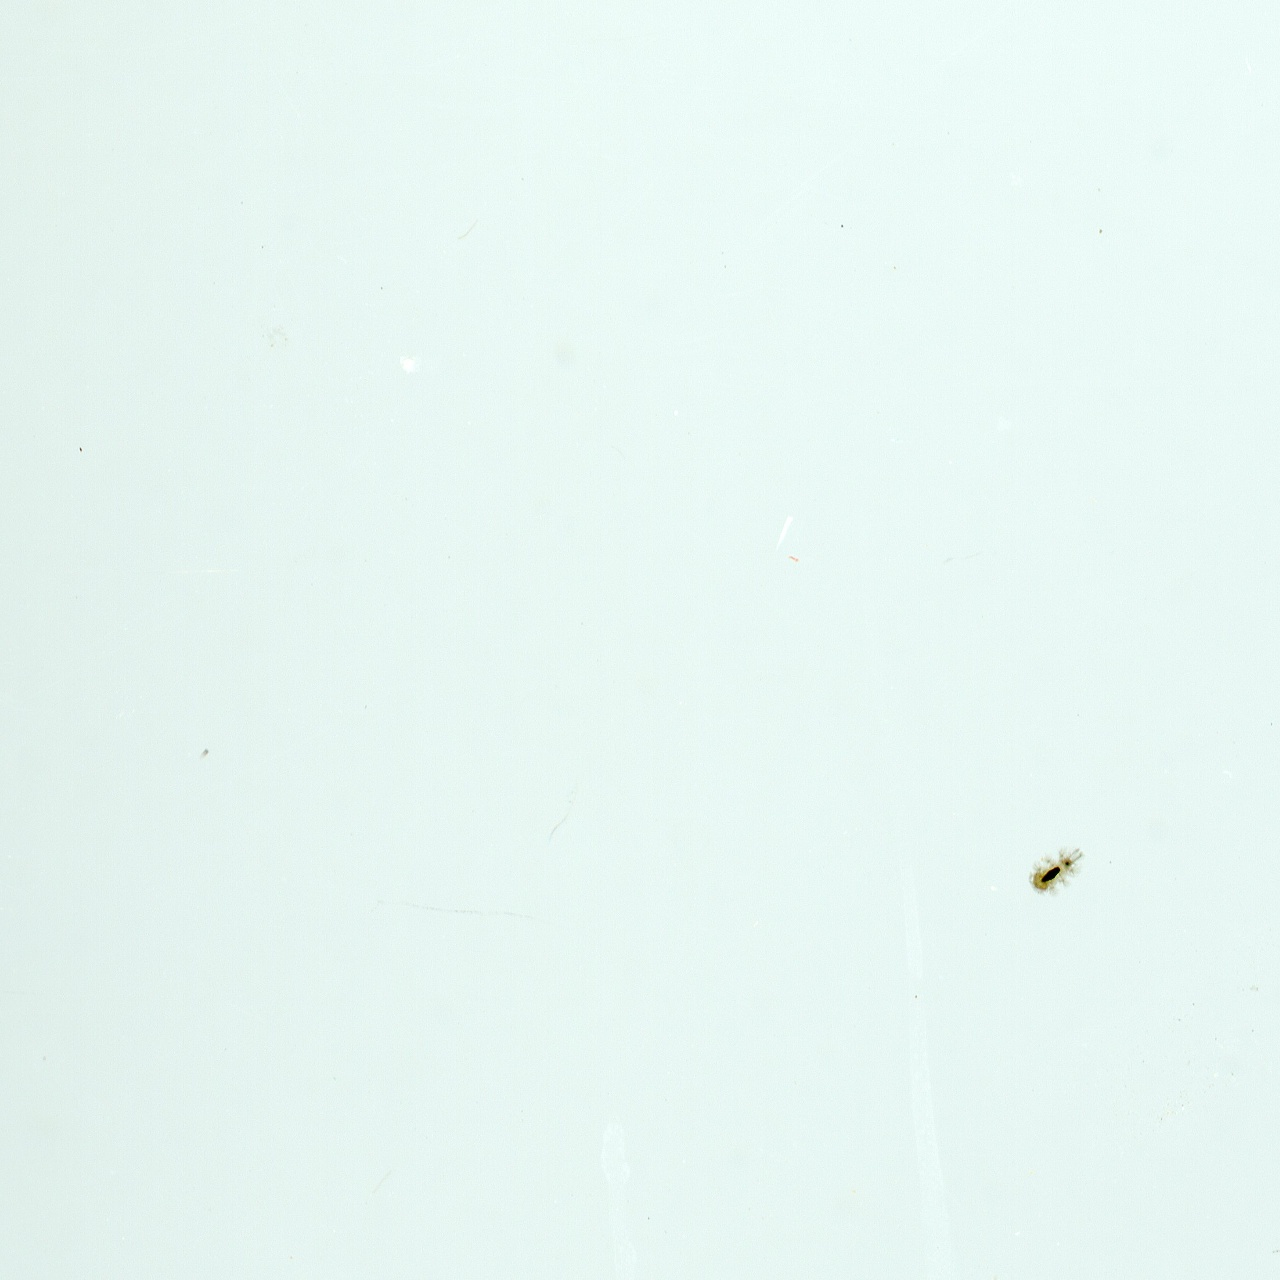arthropod: (1026, 843, 1085, 898)
